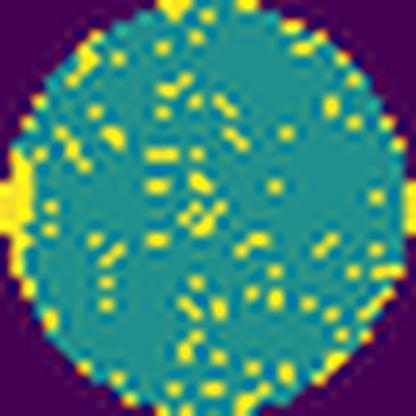Edge-Loc: (0, 141, 39, 306)
